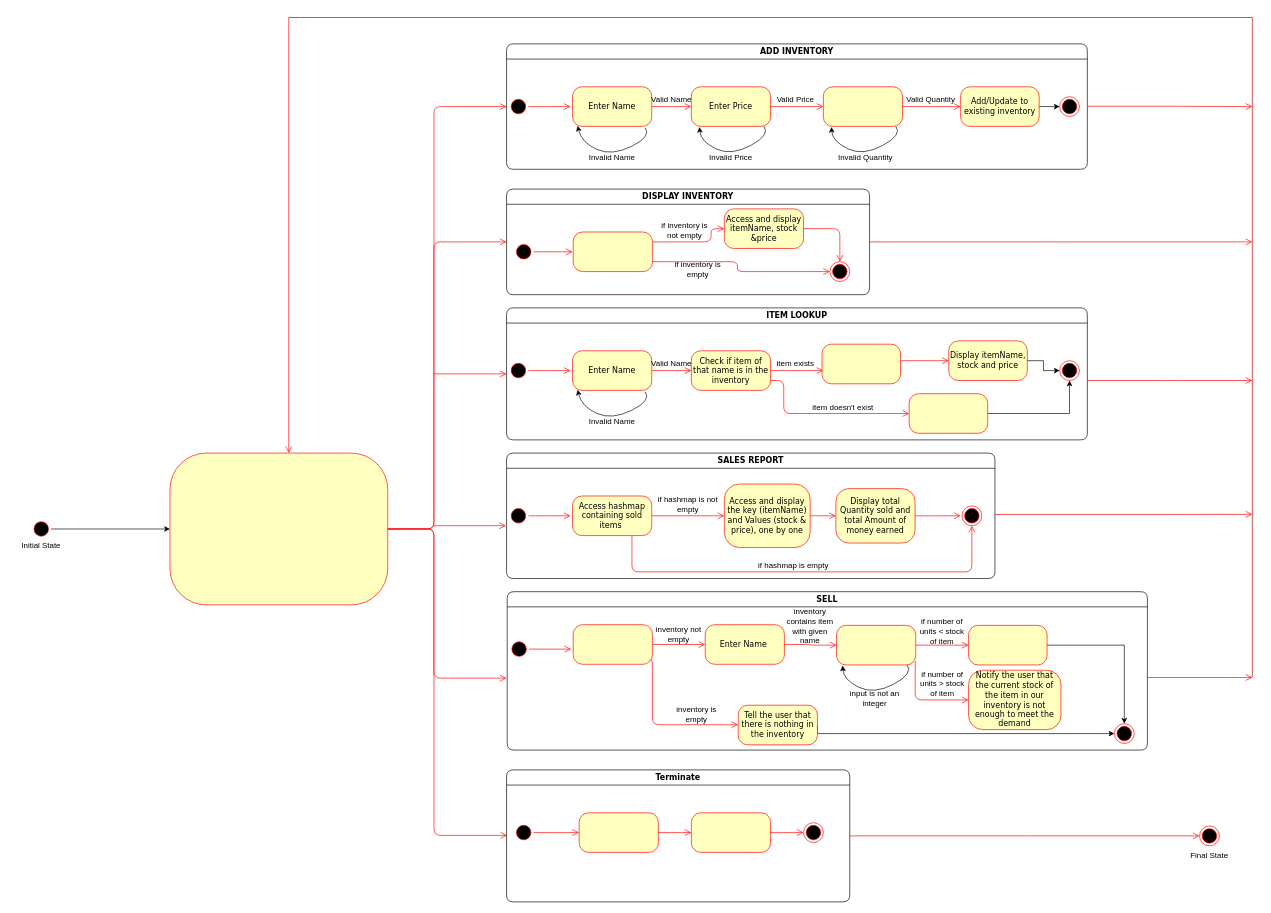
Image size: 1271x913. Some labels were removed from this diagram. Here are the shapes that lost their labels. From the top down, the centre of each, then its label:
(863,106): Enter Stock Quantity
(612,251): Add Layout
(861,364): Access stock and price of item from item name
(948,413): Display "Item not found"
(278,528): INPUT PROMPT
(612,644): Check if inventory is empty
(876,645): Enter number of units user wants to buy
(1007,645): Deduct the stock of the particular item in the inventory
(618,832): Display "Terminating"
(731,832): End Program
